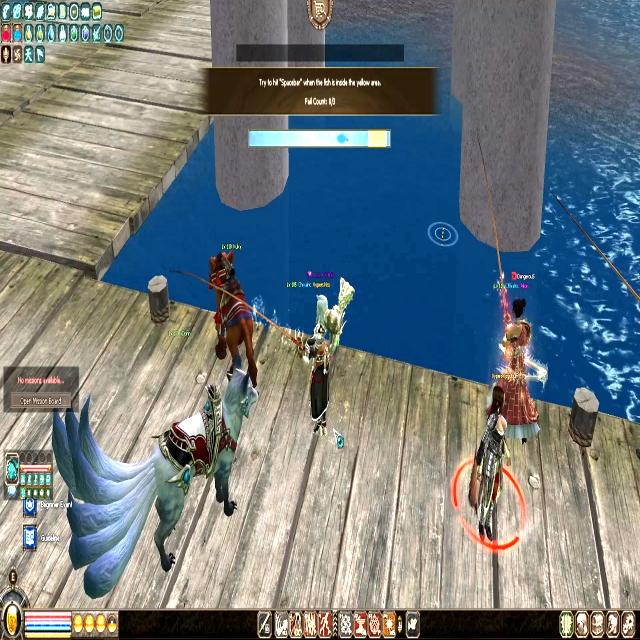fishes: (336, 132, 350, 145)
